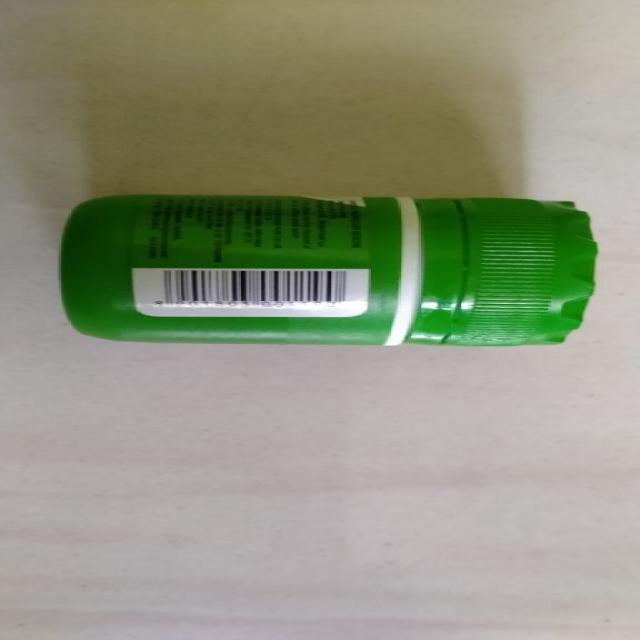eucalyptus oil: (56, 178, 606, 364)
